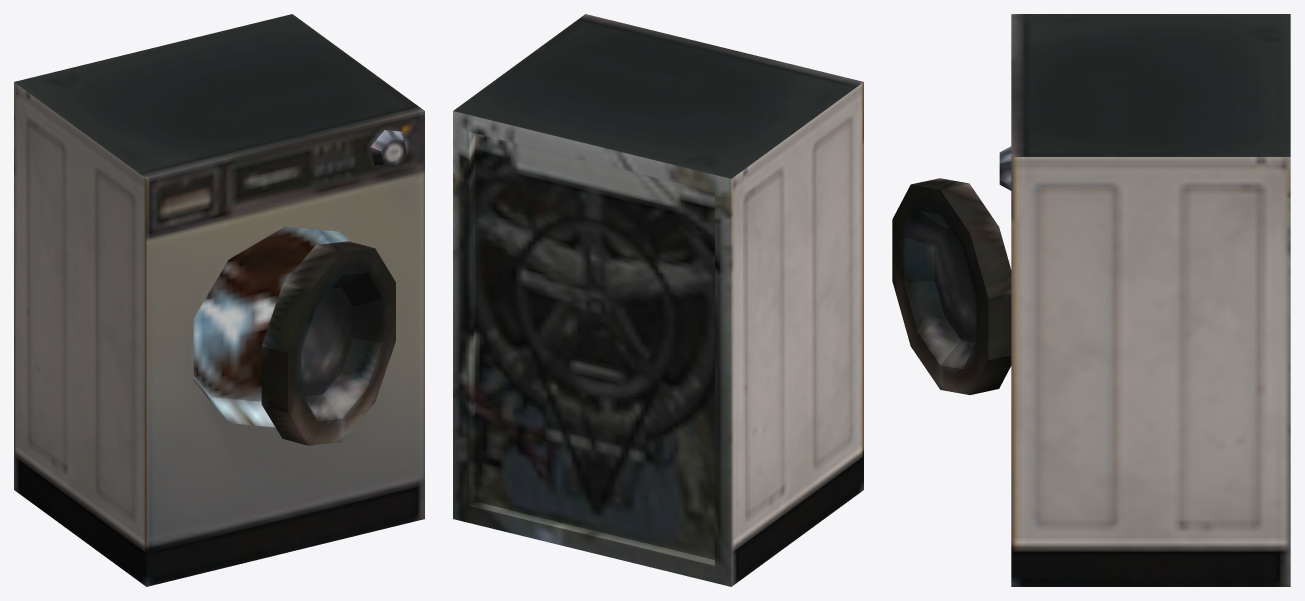
File: WachingMachine.fbx
The picture shows the model from 3 angles, left to right: view 1: azimuth 30°, elevation 25°; view 2: azimuth 150°, elevation 25°; view 3: azimuth 270°, elevation 25°; orthographic projection. The views are drawn at different scales.
Parts seen in each view (by area): view 1: WashingMachine2; view 2: WashingMachine2; view 3: WashingMachine2.
Part boxes in pixels (x1=…): WashingMachine2: x1=14, y1=14, x2=424, y2=586; WashingMachine2: x1=453, y1=14, x2=863, y2=586; WashingMachine2: x1=892, y1=14, x2=1290, y2=586.
Size of the model in its own units: 90 by 126 by 106.
Materials: 1 (1 with a texture image).
